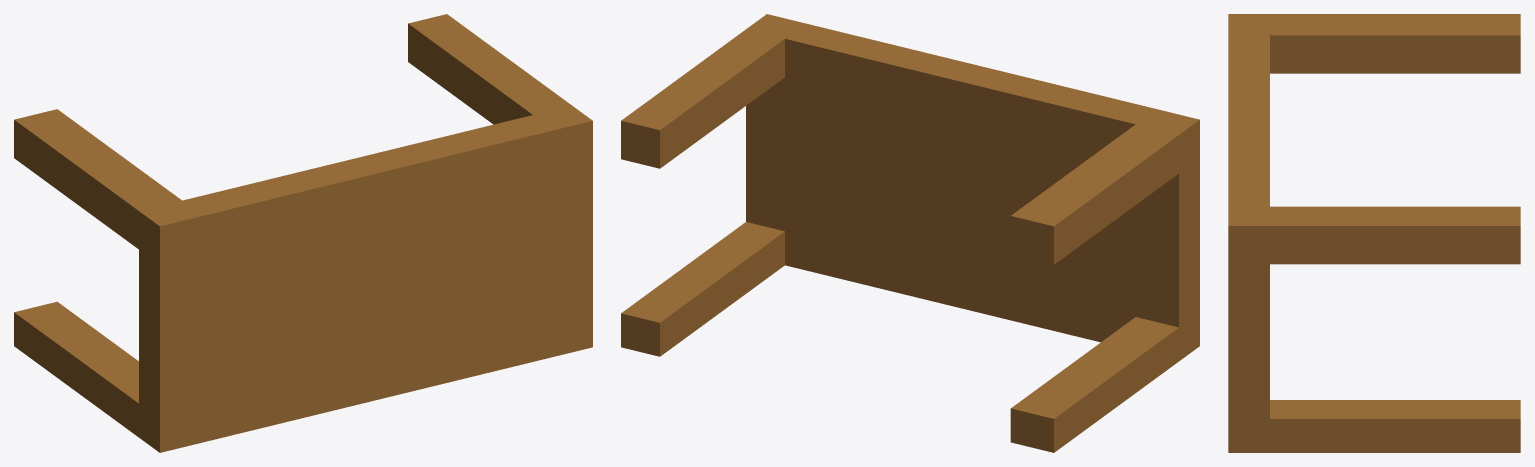
File: table.glb
3 renders of one model, left to right at view 1: azimuth 30°, elevation 25°; view 2: azimuth 150°, elevation 25°; view 3: azimuth 270°, elevation 25°, orthographic.
Visible parts, largest first — view 1: Table; view 2: Table; view 3: Table.
Boxes of the visible parts, box(x1,y1,x2,y2) form: Table: box(14, 14, 592, 452); Table: box(621, 14, 1199, 452); Table: box(1228, 14, 1520, 452).
Size of the model in its own units: 17.97 by 8.98 by 10.48.
1 material, 1 textured.
